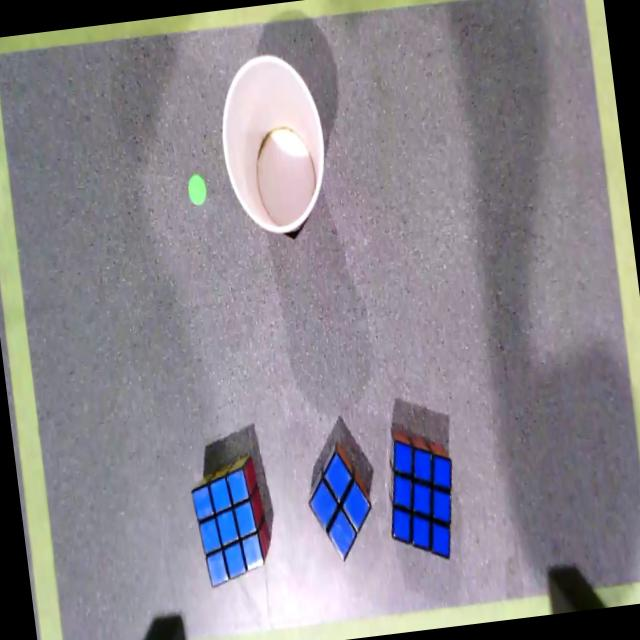cube2-blue: (309, 449, 370, 562)
cube3-blue: (191, 469, 265, 586), (391, 440, 452, 559)
